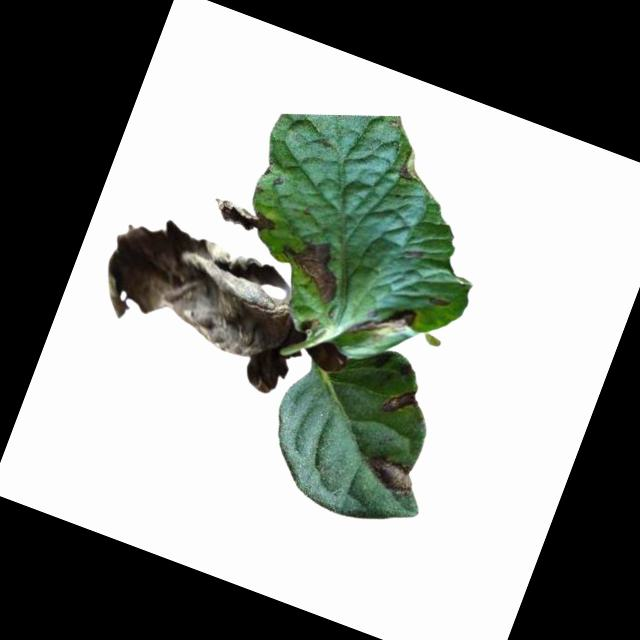Early_blight: (82, 209, 320, 397), (267, 229, 354, 307), (343, 290, 419, 357), (207, 191, 280, 240), (356, 451, 420, 503), (379, 379, 424, 424), (397, 161, 420, 183)
